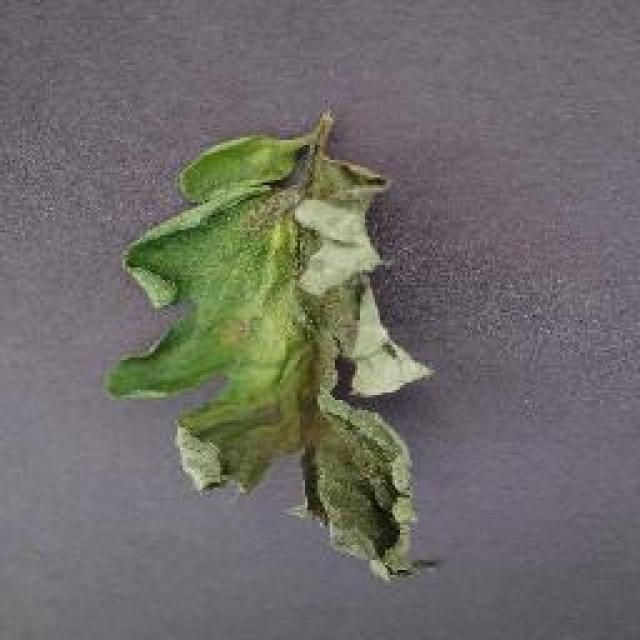Tomato late blight leaf: (113, 116, 435, 596)
